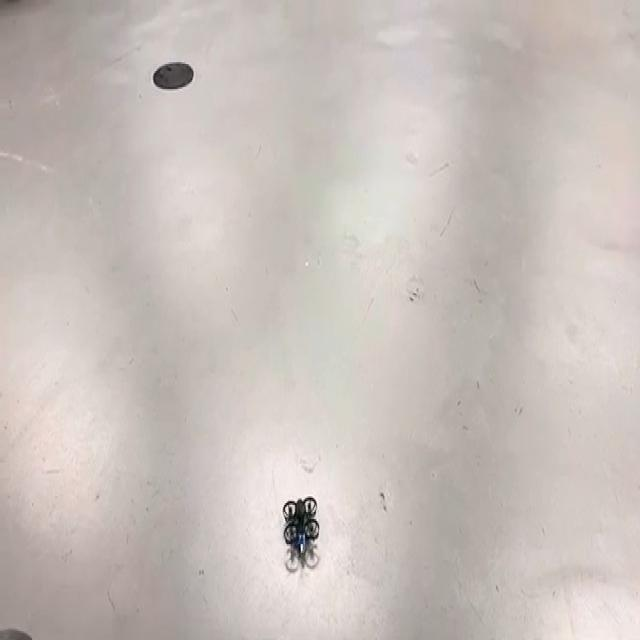drone: (274, 488, 334, 576)
